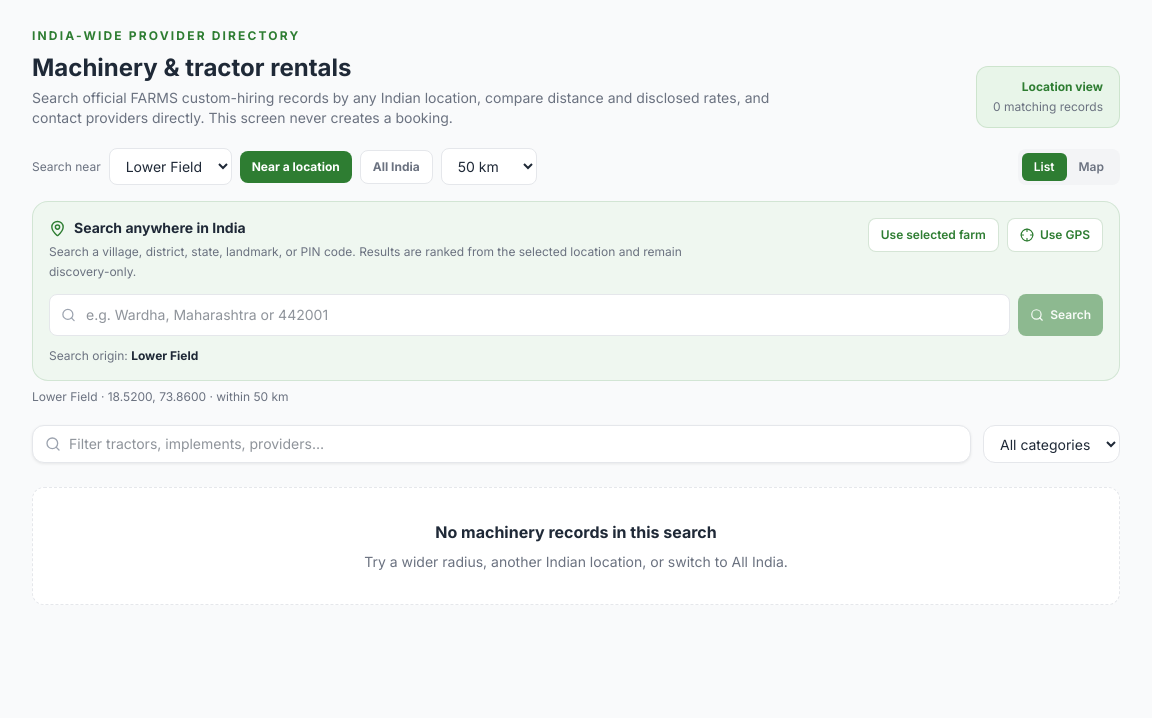
Test case: MachineryRentals › switches from an empty local radius to the live all-India directory
expect the text "No machinery records in this search" is shown: met, box [435,522,717,542]
Click the button "All India" at point(396, 166), box [360,150,433,184]
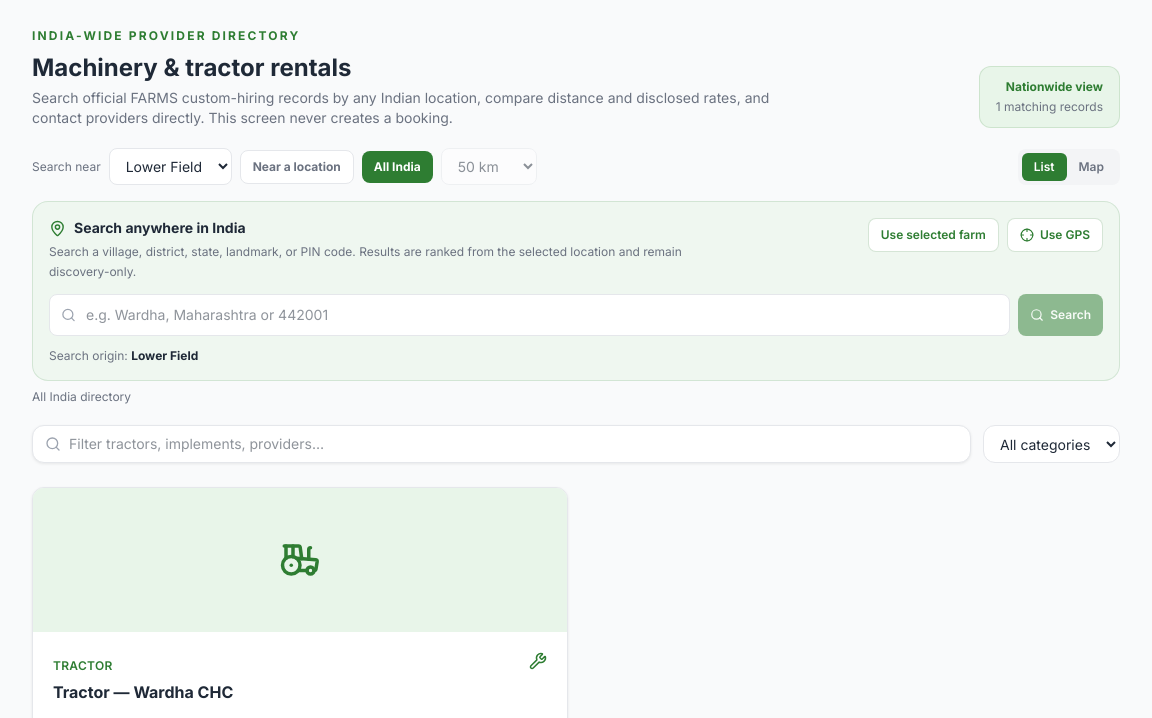
expect the heading "Tractor — Wardha CHC" is shown: met, box [53,680,233,704]
expect the text "Nationwide view" is shown: met, box [996,79,1103,95]
